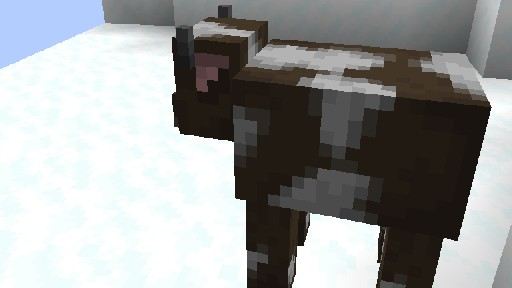cow: (171, 3, 491, 288)
